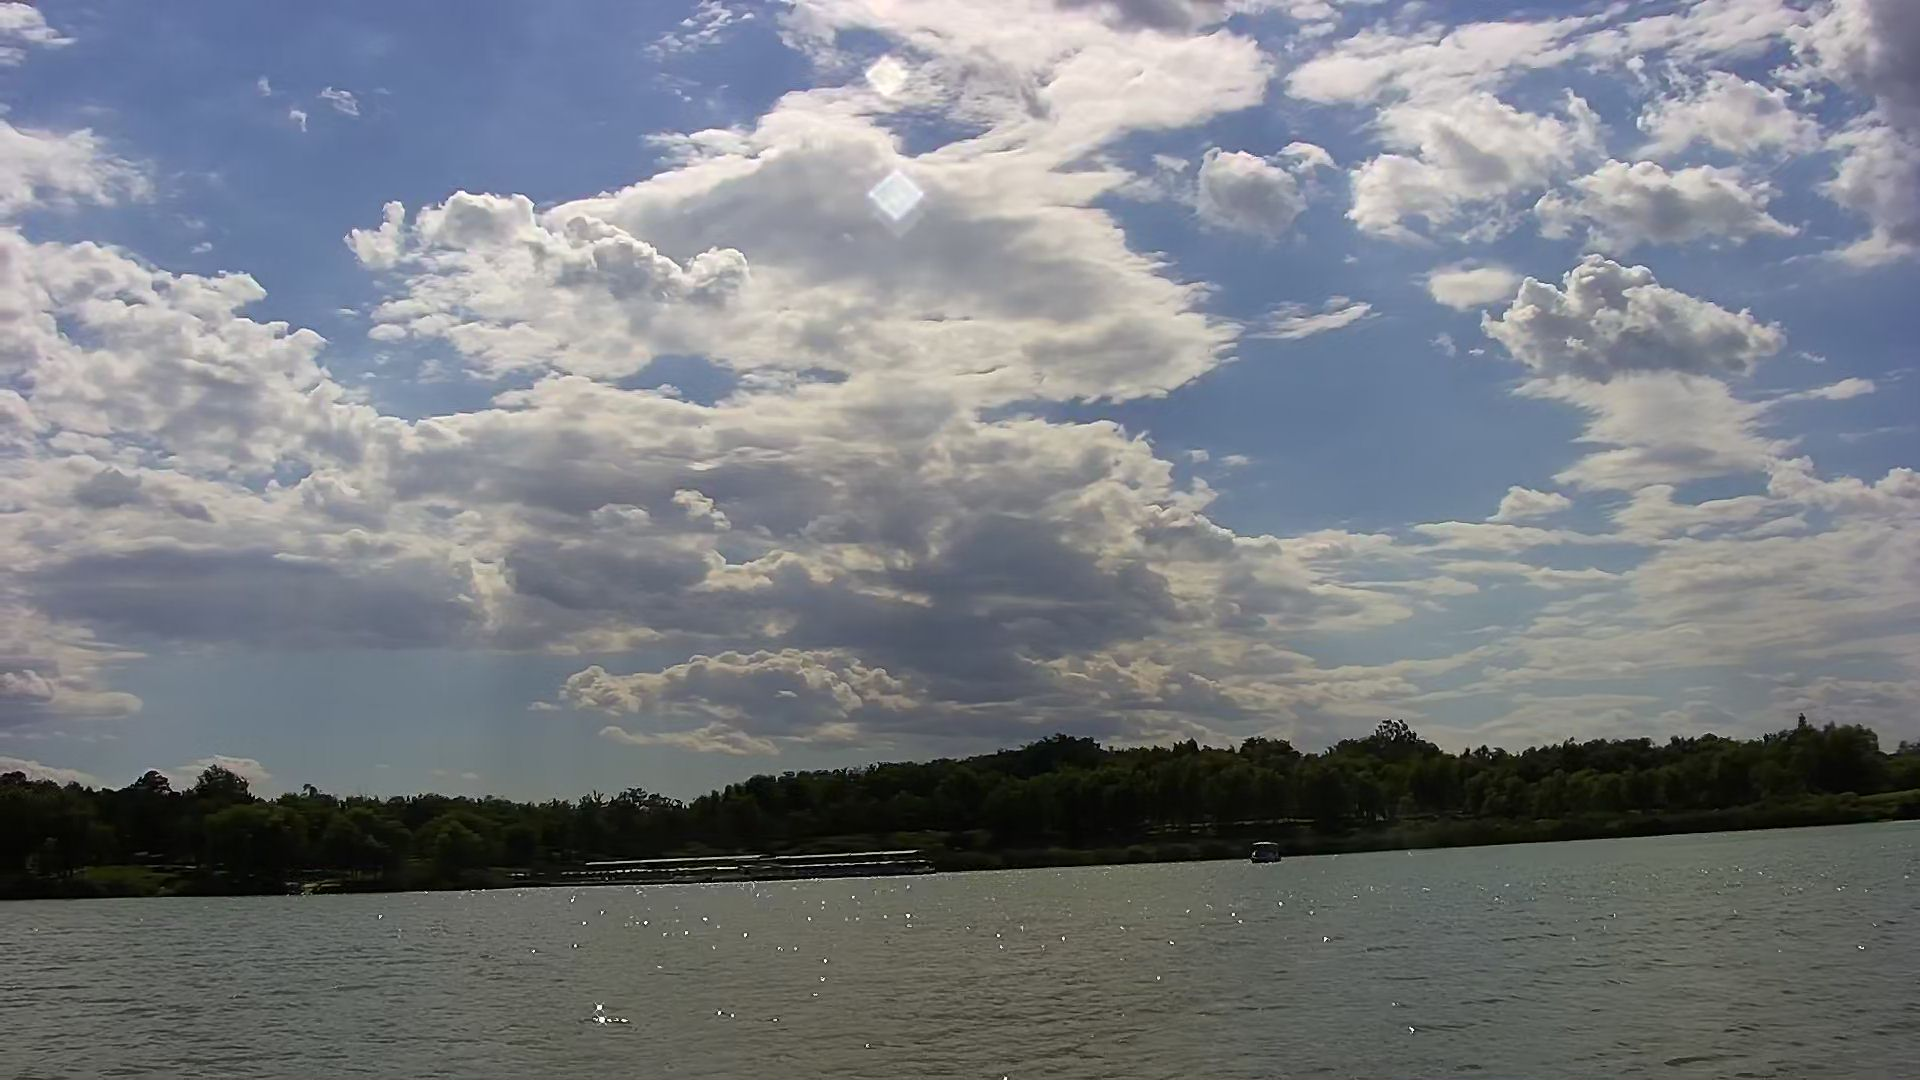boat: (1245, 833, 1290, 868)
harbor: (572, 841, 931, 887)
